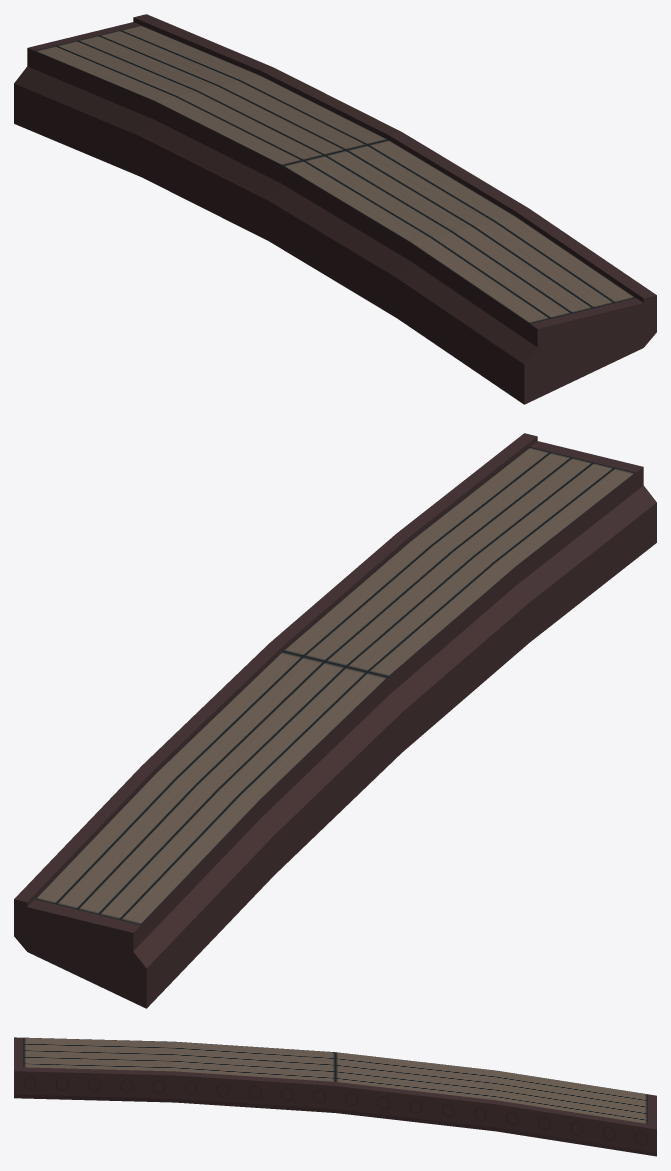
Rendered from SW_ENV_EL_TrackBase_Walkway_Riser_B_Side.fbx.
The picture shows the model from 3 angles, top to bottom: view 1: azimuth 30°, elevation 25°; view 2: azimuth 150°, elevation 25°; view 3: azimuth 270°, elevation 25°; orthographic projection. The views are drawn at different scales.
Parts seen in each view (by area): view 1: SW_ENV_EL_TrackBase_Walkway_Riser_B_Side; view 2: SW_ENV_EL_TrackBase_Walkway_Riser_B_Side; view 3: SW_ENV_EL_TrackBase_Walkway_Riser_B_Side.
Boxes of the visible parts, x1=… form: SW_ENV_EL_TrackBase_Walkway_Riser_B_Side: x1=14, y1=14, x2=656, y2=404; SW_ENV_EL_TrackBase_Walkway_Riser_B_Side: x1=14, y1=433, x2=656, y2=1008; SW_ENV_EL_TrackBase_Walkway_Riser_B_Side: x1=14, y1=1037, x2=656, y2=1156.
Size of the model in its own units: 1.5 by 1.84 by 10.
